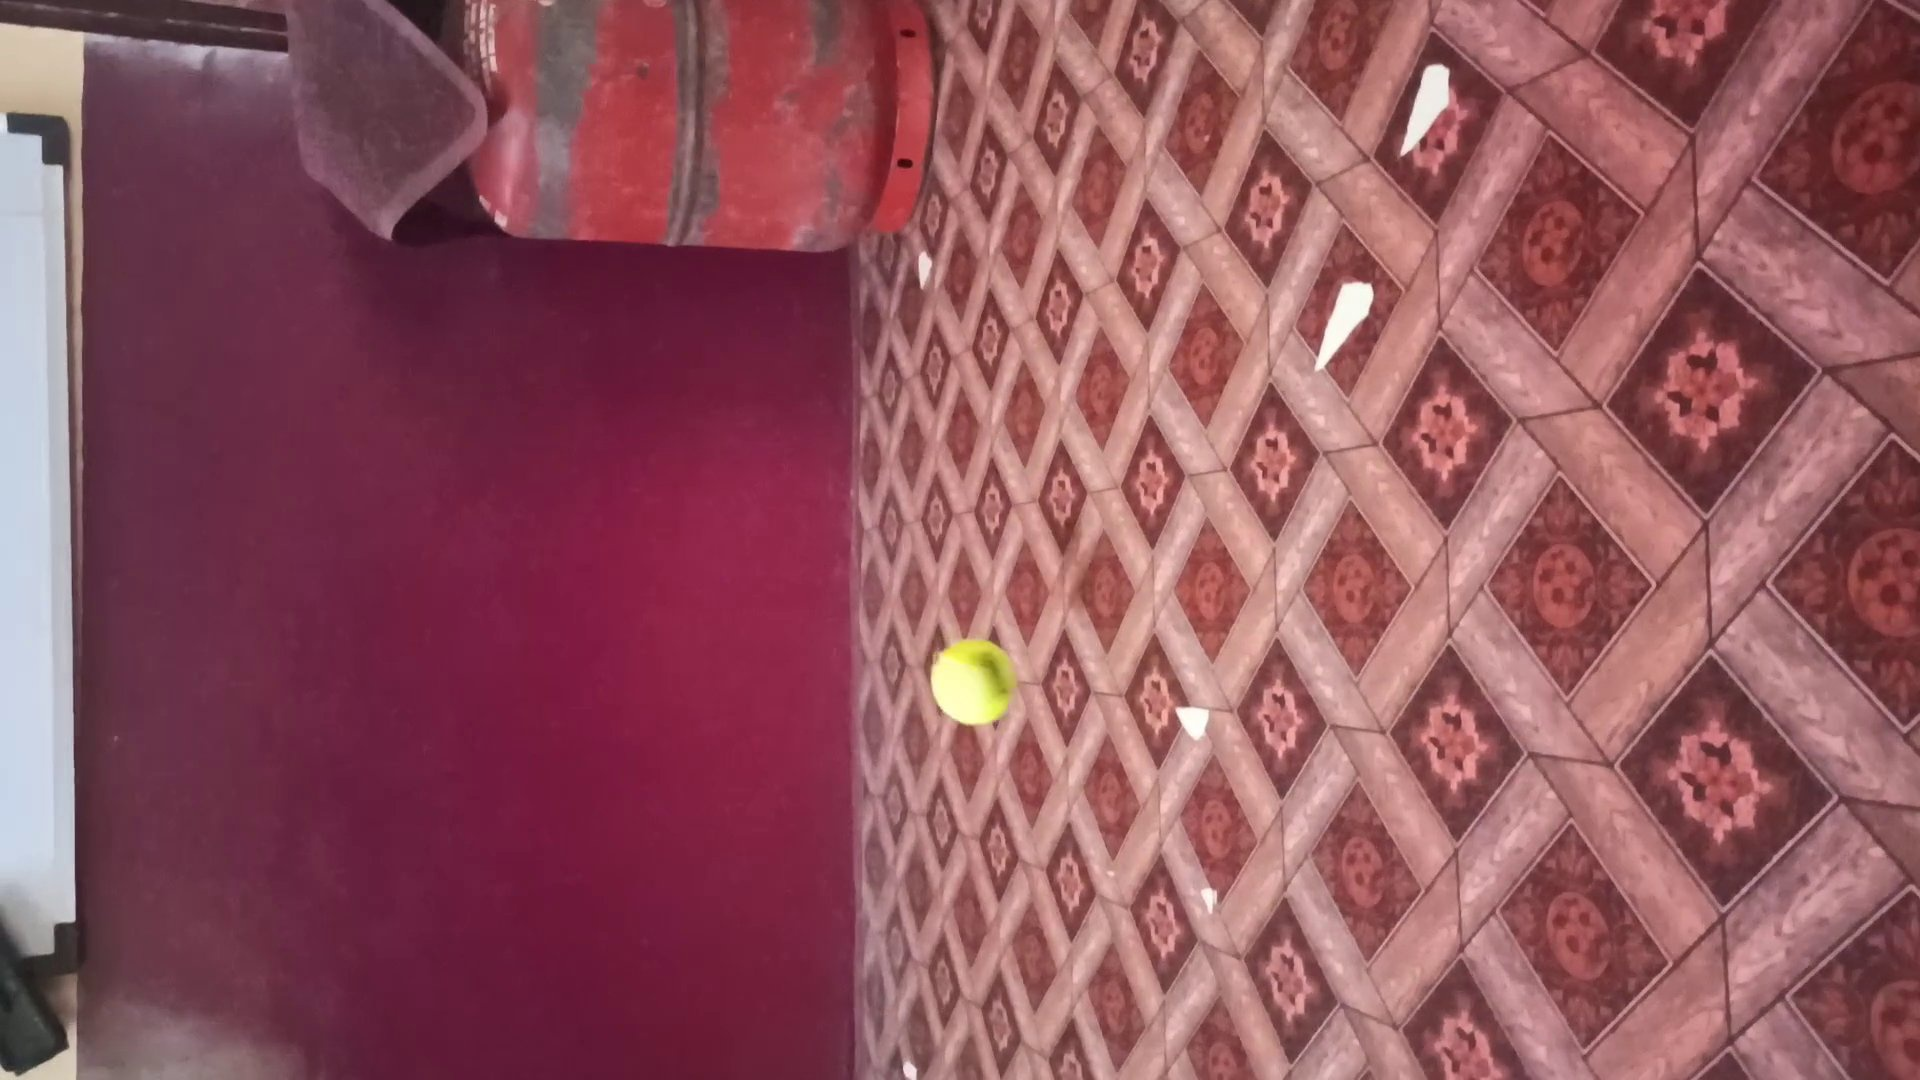Tennis-Ball: (924, 636, 1019, 727)
